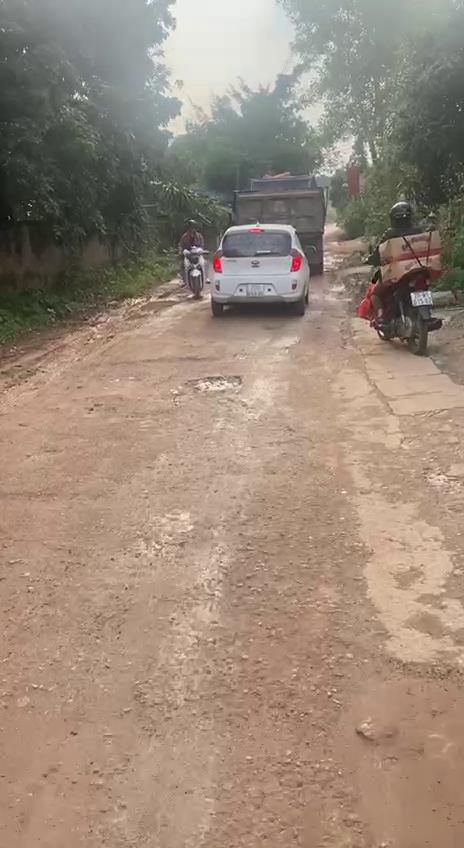pothole: (332, 653, 464, 848), (184, 372, 248, 396)
